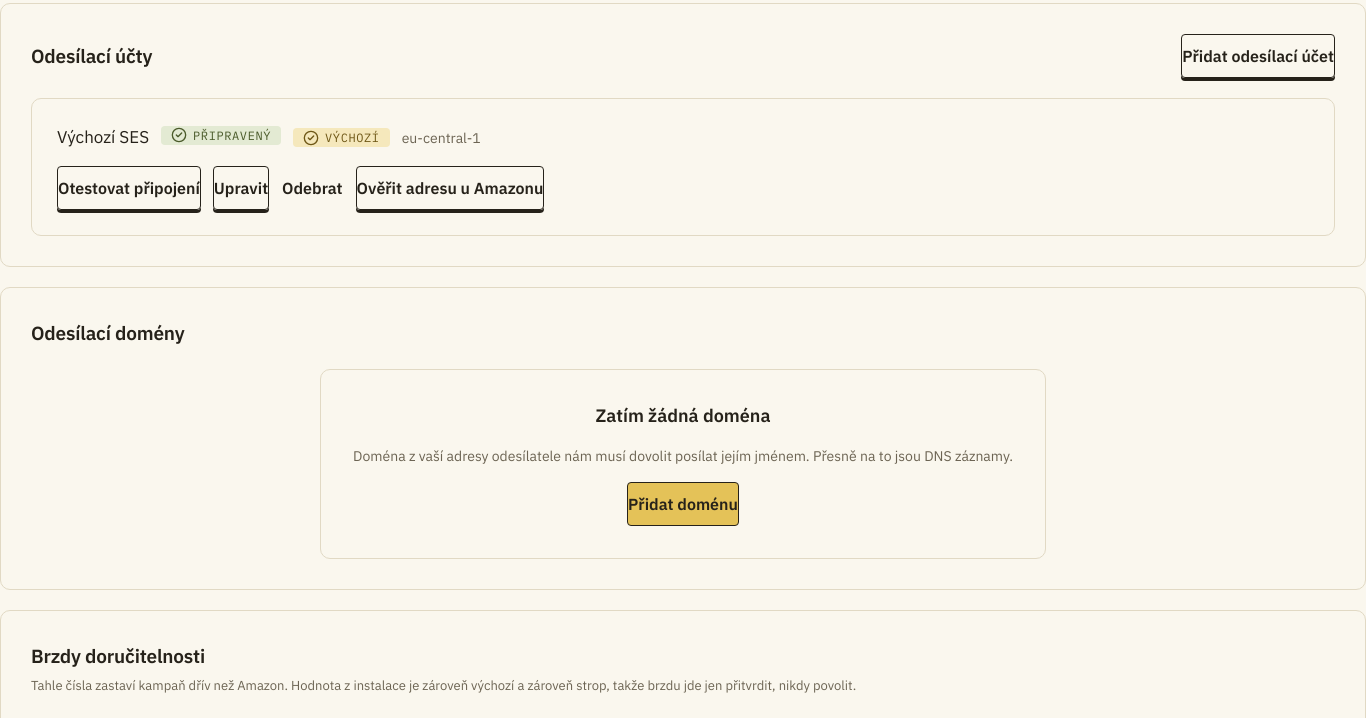
Scenario: obrazovka nastavení odesílání › tlačítko Přidat doménu v prázdném stavu opravdu otevře dialog
Click the button "Přidat doménu" at (683, 504), box [627, 482, 739, 526]
(page scrolled)
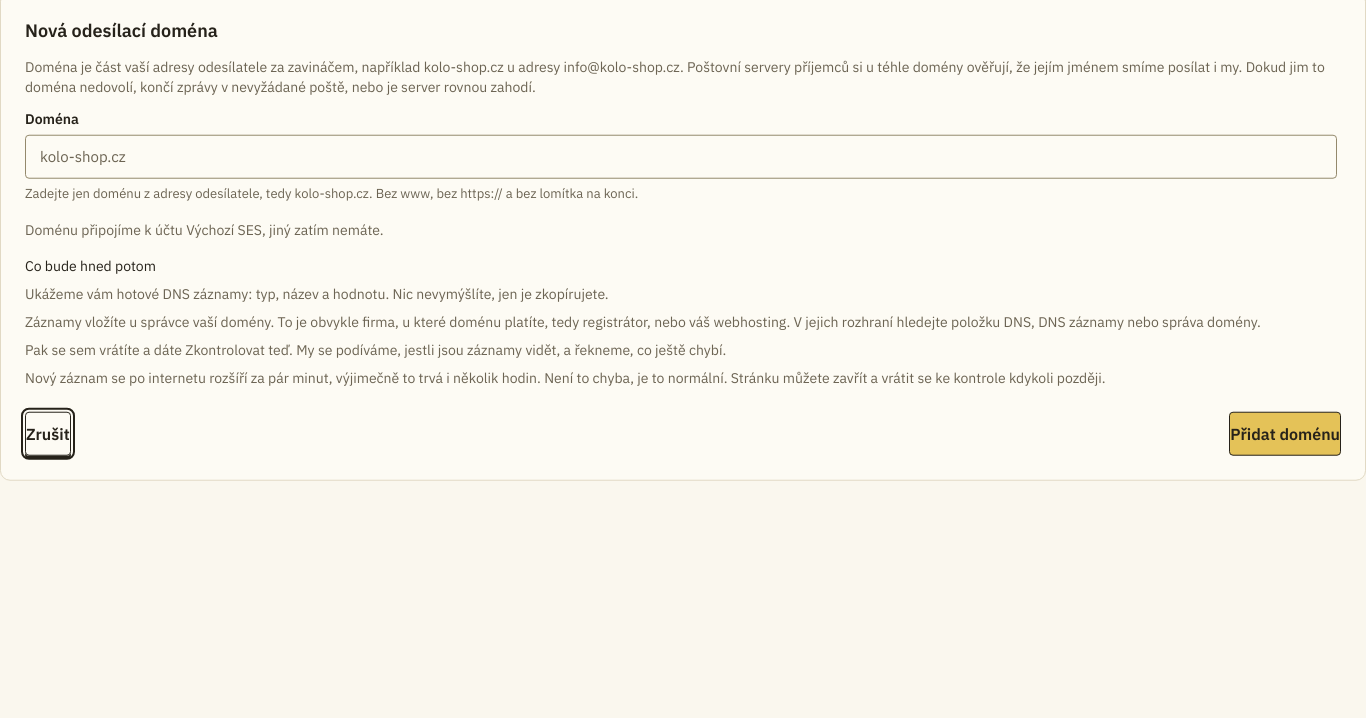
Expected: the heading "Nová odesílací doména" is shown, [25, 19, 218, 42]
